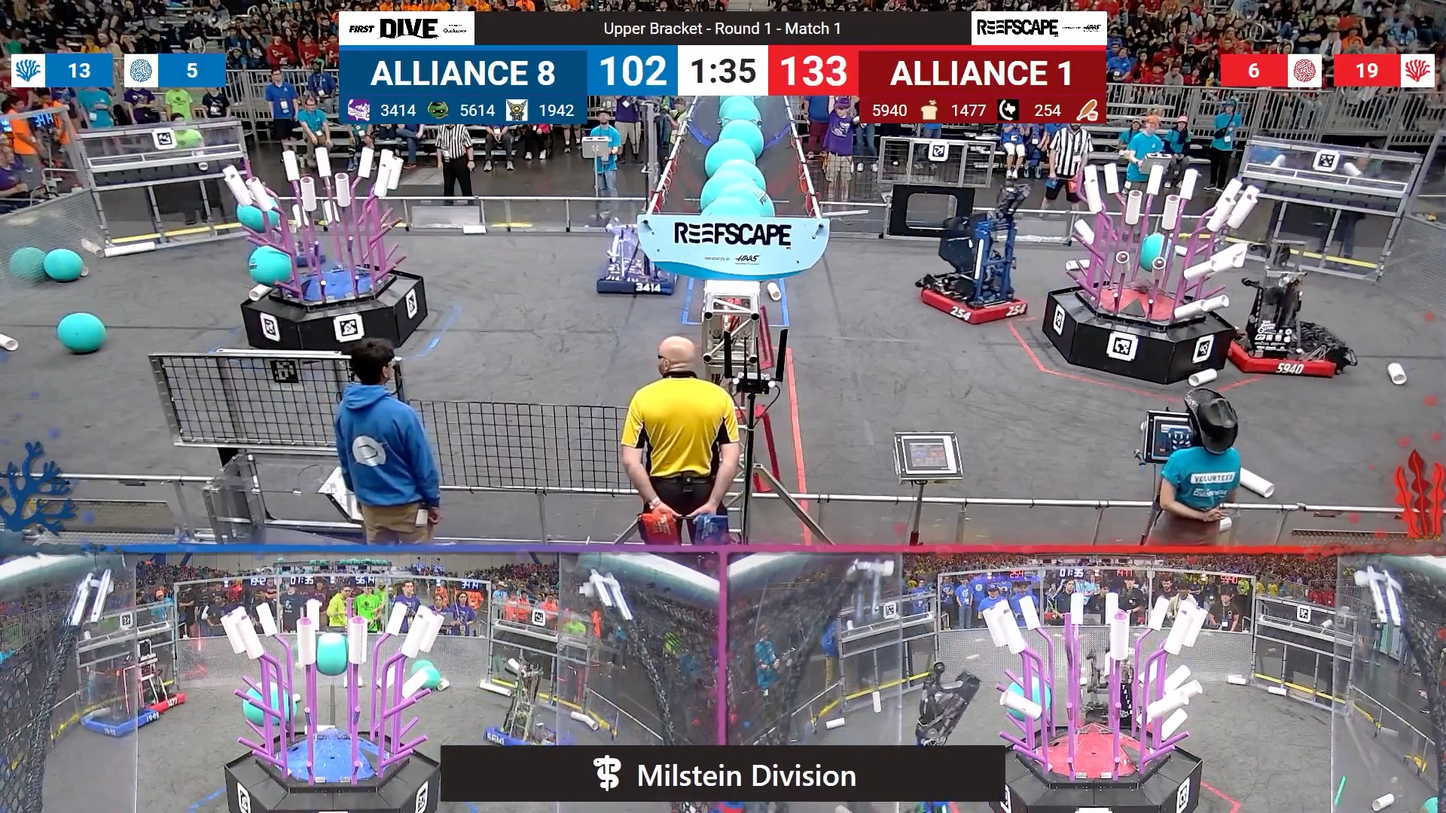bumpers: (1220, 320, 1355, 385), (911, 279, 1030, 330), (592, 253, 681, 297), (76, 702, 166, 743), (476, 716, 573, 750), (135, 684, 190, 711)
